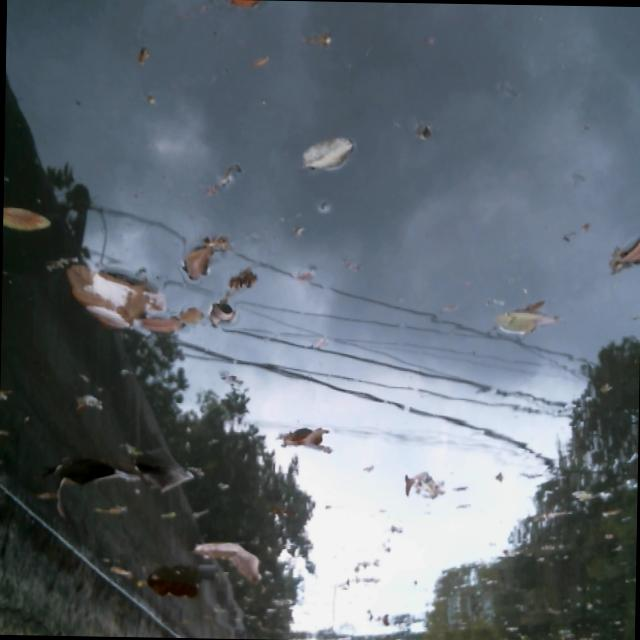Big-leaf: (63, 252, 157, 335), (46, 443, 131, 524), (182, 525, 273, 589), (138, 451, 196, 494), (136, 564, 196, 603)
Small-leaf: (487, 290, 555, 345), (299, 121, 361, 179), (268, 418, 334, 460), (180, 219, 219, 284), (1, 200, 59, 240), (394, 462, 444, 506), (609, 233, 640, 284), (226, 259, 259, 291), (361, 599, 393, 630), (206, 298, 232, 333)
